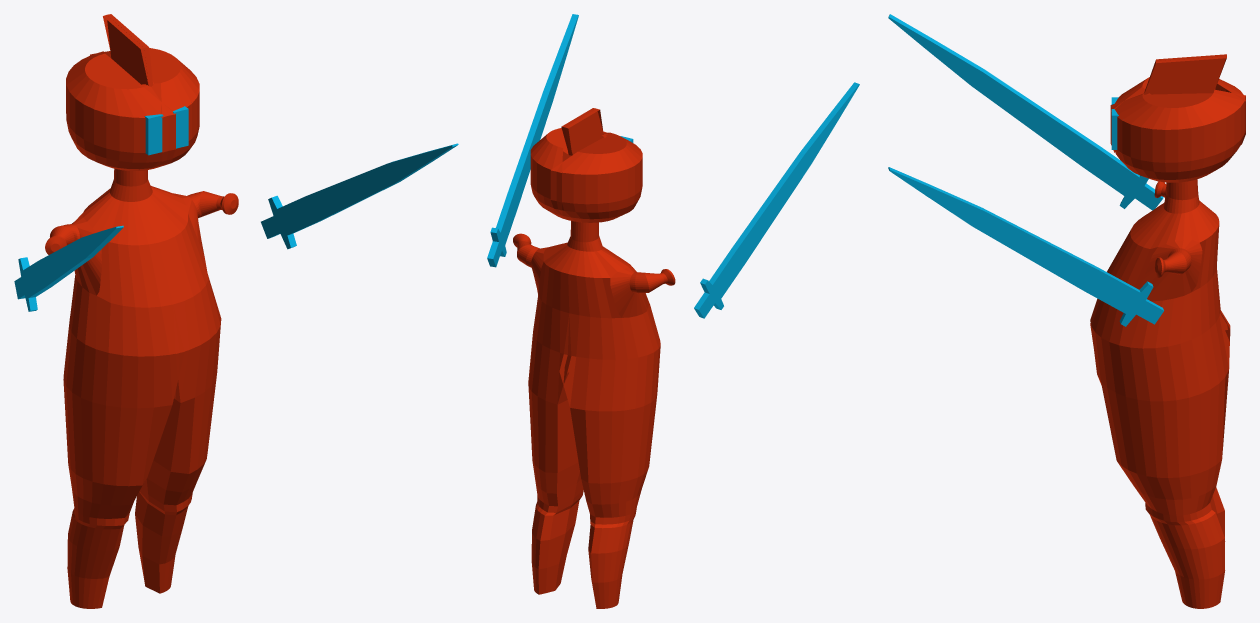
Rendered from miniboss_sword.gltf.
The picture shows the model from 3 angles, left to right: view 1: azimuth 30°, elevation 25°; view 2: azimuth 150°, elevation 25°; view 3: azimuth 270°, elevation 25°; orthographic projection. The views are drawn at different scales.
Parts seen in each view (by area): view 1: Cylinder.002; view 2: Cylinder.002; view 3: Cylinder.002.
Boxes of the visible parts, <box> form: Cylinder.002: <box>14,14,458,608</box>; Cylinder.002: <box>487,14,859,608</box>; Cylinder.002: <box>888,14,1245,608</box>.
Bounding box in the file's own units: 2.34 × 3.72 × 2.27.
